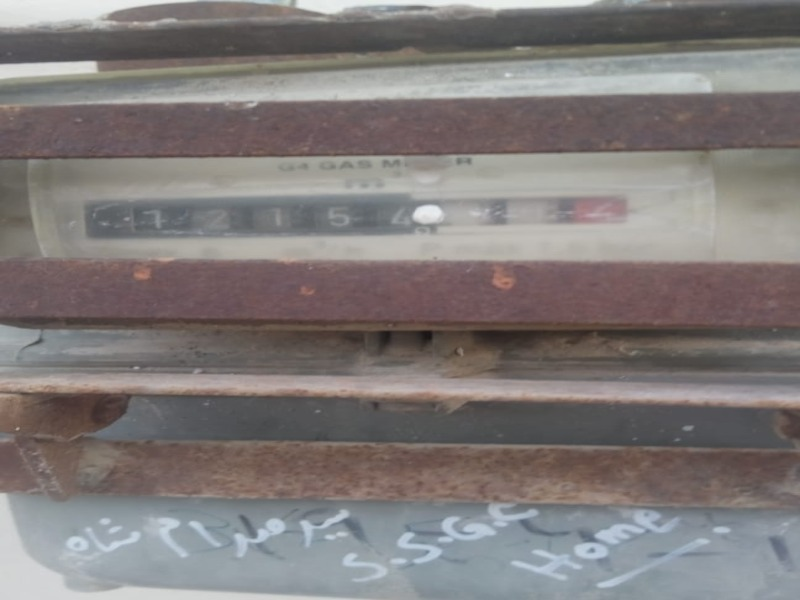ssgc: (103, 195, 631, 242)
